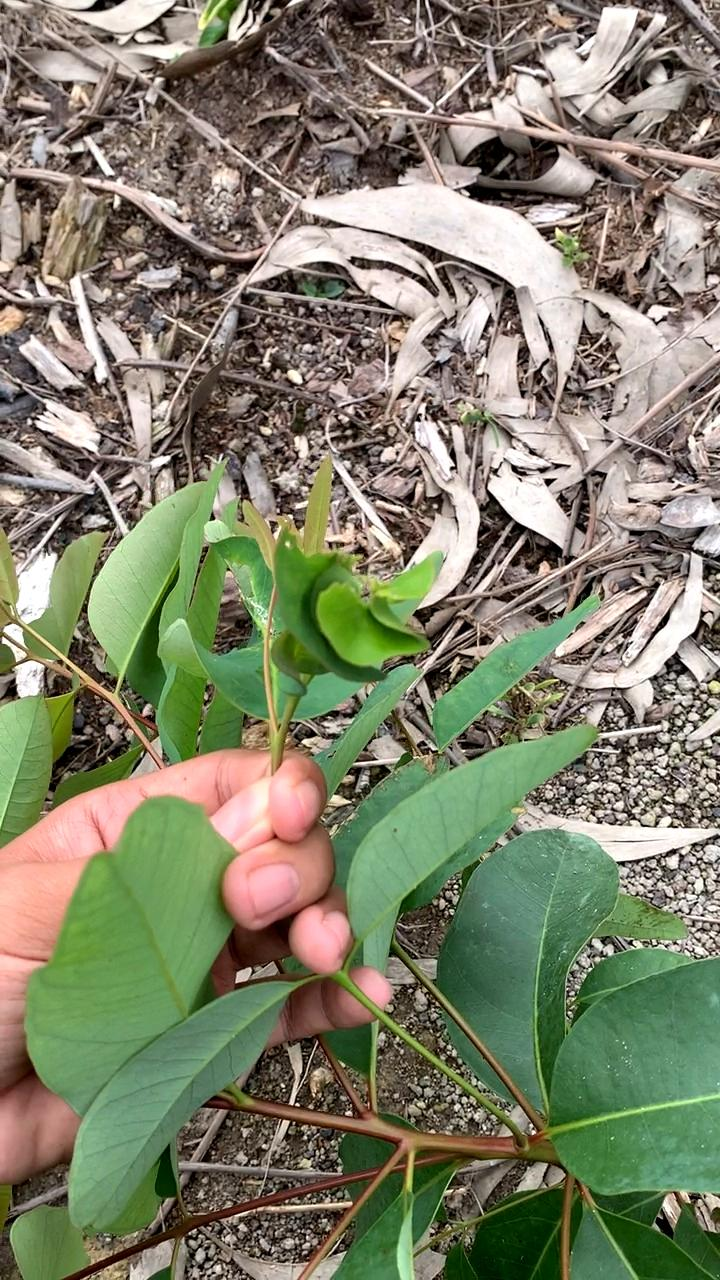Leaf Roller - Leaf: (261, 546, 457, 691)
